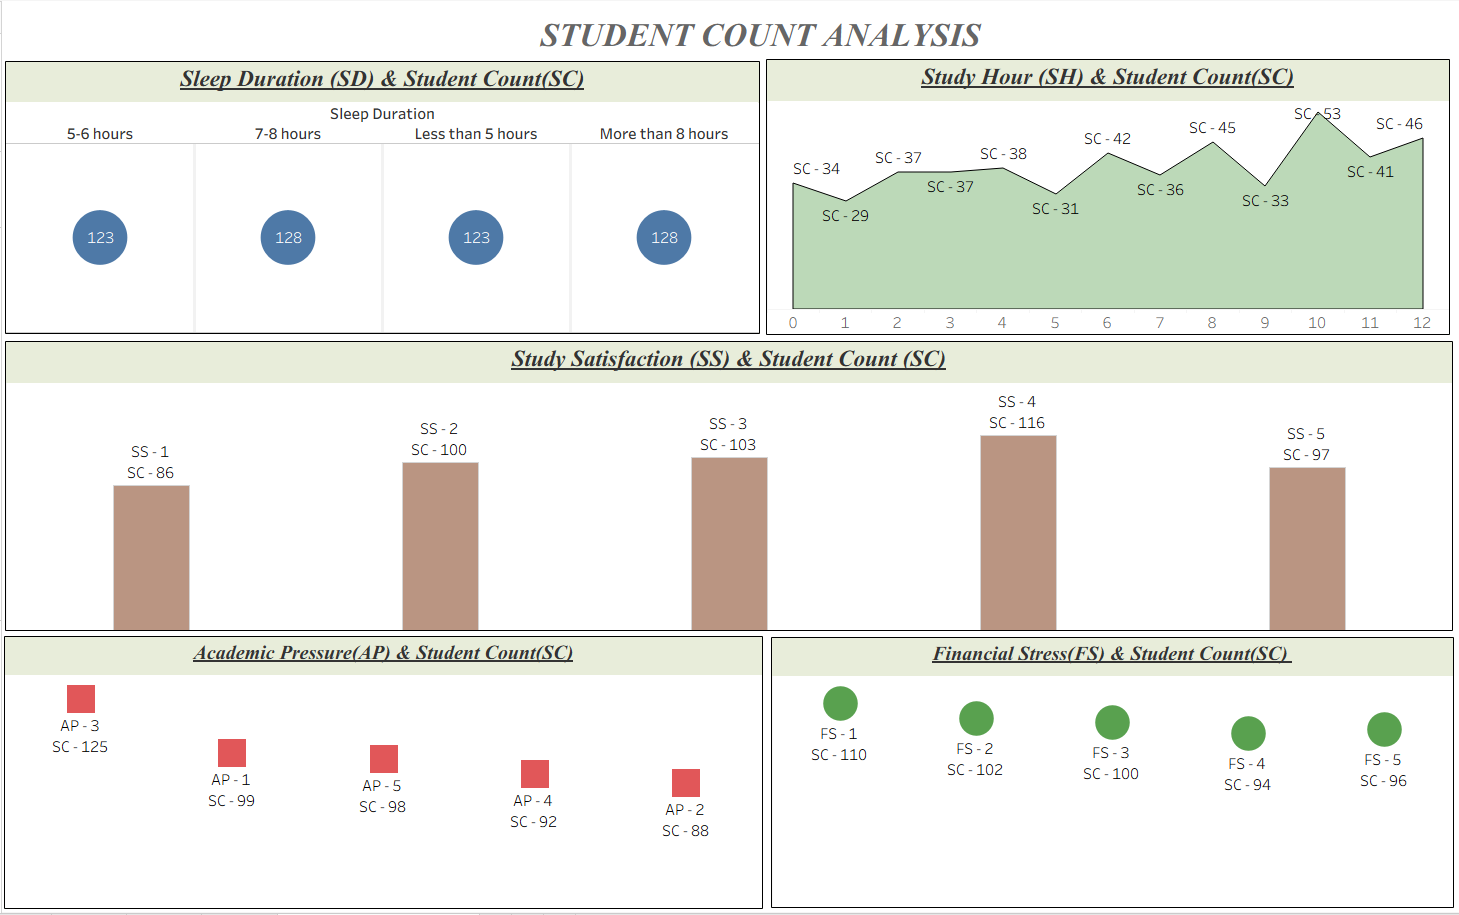

The page's visual inventory and layout, read from the dashboard file:
{"tool":"tableau","page":{"name":"Student Count Analysis","canvas":[1000,1000],"units":"permille","ordinal":0},"visuals":[{"type":"text","box":[322.9,17.6,270.4,40.6]},{"type":"worksheet","title":"SH & SC","mark":"Area","rows":["Index_Column"],"cols":["Study_Hours"],"box":[461.1,63.7,412.8,303]},{"type":"worksheet","title":"SD & SC","mark":"Pie","cols":["Sleep_Duration"],"box":[1.8,65.9,455.6,299.7]},{"type":"worksheet","title":"SS & SC","mark":"Automatic","rows":["Index_Column"],"cols":["Study_Satisfaction"],"box":[1.8,373.2,873.9,318.3]},{"type":"worksheet","title":"AP & SC","mark":"Square","rows":["Index_Column"],"cols":["Academic_Pressure"],"box":[1.2,697,458.1,299.7]},{"type":"worksheet","title":"FS & SC","mark":"Circle","rows":["Index_Column"],"cols":["Financial_Stress"],"box":[464.1,698.1,412.2,297.5]}]}

Visuals, with their boxes on the dashboard's canvas, which has no fixed pixel size, in thousandths of its width and height (x1, y1, x2, y2). These are canvas units, not pixel positions in the 1459x915 screenshot, which may show the page scaled, cropped or inside an application window:
text: locate(323, 18, 593, 58)
"SH & SC" worksheet (Area marks): locate(461, 64, 874, 367)
"SD & SC" worksheet (Pie marks): locate(2, 66, 457, 366)
"SS & SC" worksheet: locate(2, 373, 876, 692)
"AP & SC" worksheet (Square marks): locate(1, 697, 459, 997)
"FS & SC" worksheet (Circle marks): locate(464, 698, 876, 996)
